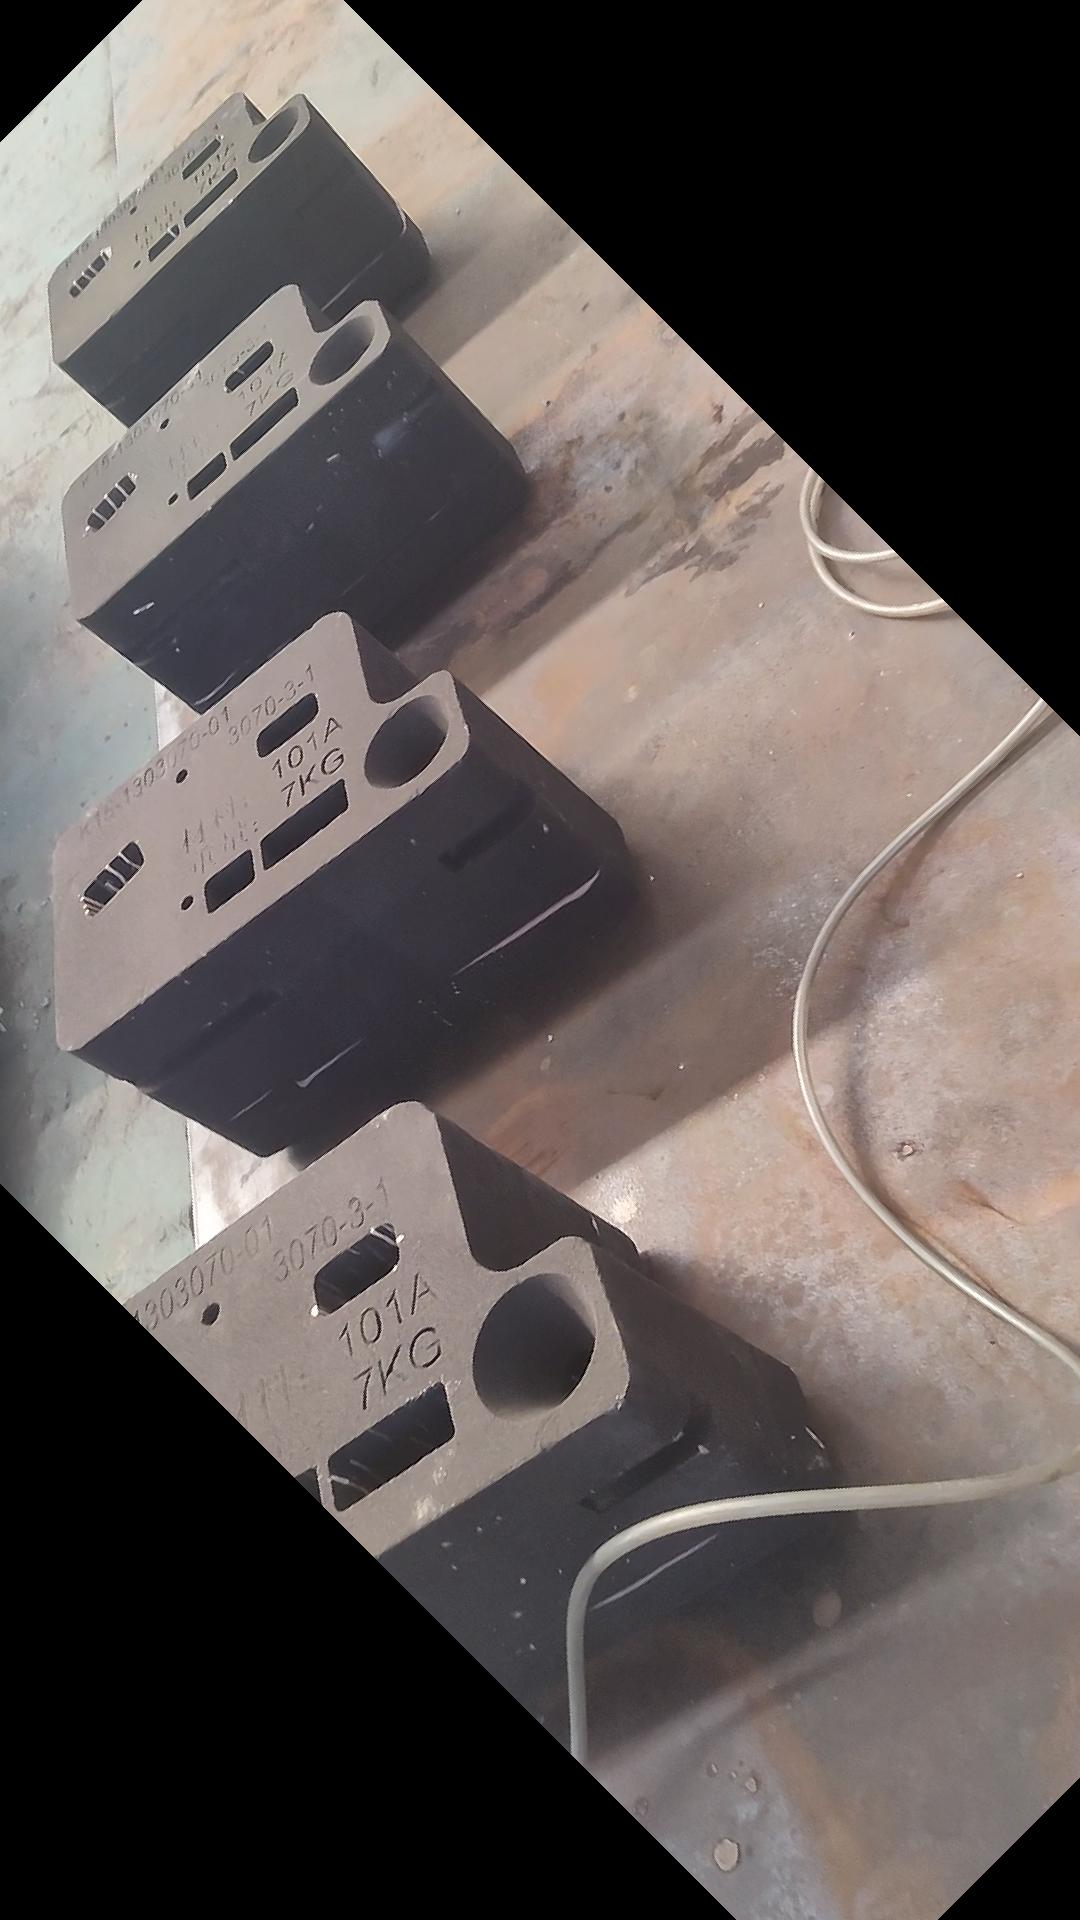pouring hole: (471, 1273, 596, 1420), (364, 694, 450, 789), (309, 314, 375, 384), (247, 105, 299, 164)
